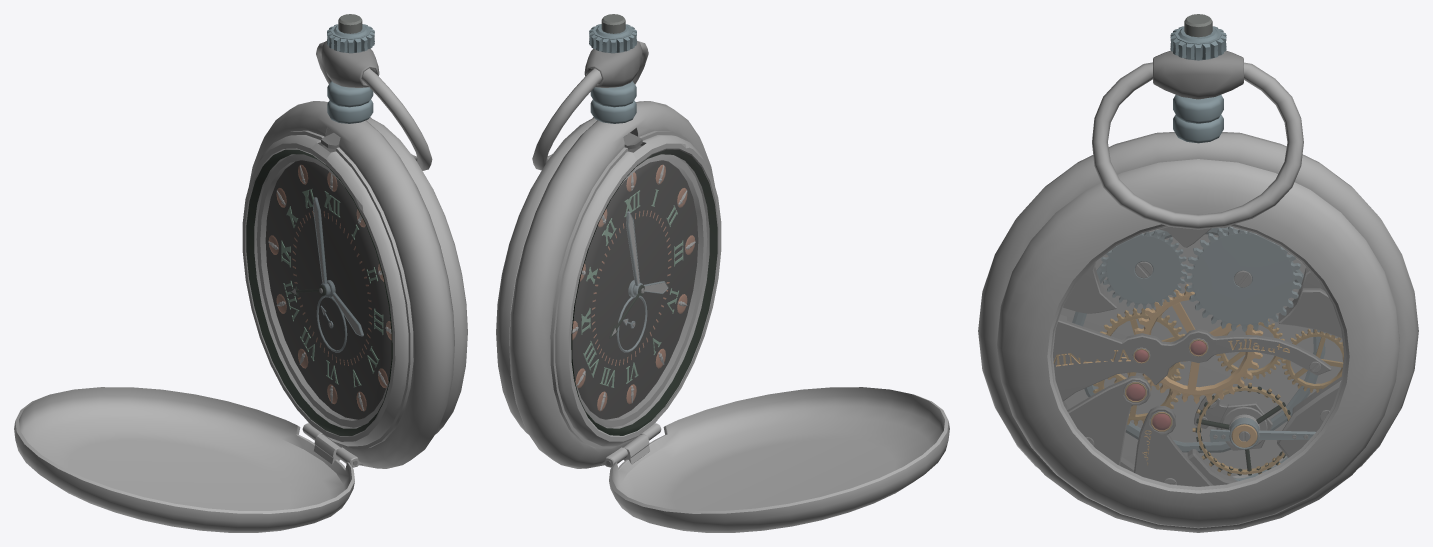
The model's file is Watch15042020.fbx.
The picture shows the model from 3 angles, left to right: view 1: azimuth 30°, elevation 25°; view 2: azimuth 150°, elevation 25°; view 3: azimuth 270°, elevation 25°; orthographic projection. The views are drawn at different scales.
Visible parts, largest first — view 1: polySurface33, pCylinder166, polySurface36, polySurface29, pCylinder55, pTorus4, pCube5, polySurface13, R14, pCylinder22, pCylinder6, pCube148 (+1 smaller); view 2: polySurface33, pCylinder166, polySurface36, polySurface29, pCylinder55, pTorus4, pCube5, polySurface13, R14, pCylinder22, pCylinder6, pCube148 (+1 smaller); view 3: polySurface30, polySurface29, polySurface33, pCylinder170, pCube128, pTorus4, pCylinder83, polySurface35, pCube5, pCube132, pCylinder180, pCylinder179 (+10 smaller).
Boxes of the visible parts, x1=… form: polySurface33: x1=242, y1=101, x2=454, y2=468; pCylinder166: x1=14, y1=387, x2=354, y2=532; polySurface36: x1=245, y1=149, x2=392, y2=435; polySurface29: x1=366, y1=117, x2=467, y2=434; pCylinder55: x1=256, y1=154, x2=389, y2=427; pTorus4: x1=316, y1=42, x2=432, y2=170; pCube5: x1=321, y1=41, x2=379, y2=87; polySurface13: x1=268, y1=165, x2=391, y2=411; R14: x1=281, y1=189, x2=383, y2=387; pCylinder22: x1=327, y1=81, x2=373, y2=107; pCylinder6: x1=327, y1=99, x2=373, y2=123; pCube148: x1=327, y1=24, x2=374, y2=52; polySurface33: x1=509, y1=101, x2=721, y2=468; pCylinder166: x1=609, y1=387, x2=949, y2=532; polySurface36: x1=571, y1=149, x2=718, y2=435; polySurface29: x1=496, y1=117, x2=597, y2=434; pCylinder55: x1=574, y1=154, x2=707, y2=427; pTorus4: x1=532, y1=41, x2=648, y2=170; pCube5: x1=584, y1=41, x2=642, y2=87; polySurface13: x1=572, y1=165, x2=695, y2=411; R14: x1=581, y1=189, x2=683, y2=387; pCylinder22: x1=590, y1=81, x2=636, y2=107; pCylinder6: x1=590, y1=99, x2=636, y2=123; pCube148: x1=589, y1=24, x2=636, y2=52; polySurface30: x1=1050, y1=225, x2=1346, y2=489; polySurface29: x1=997, y1=159, x2=1399, y2=528; polySurface33: x1=978, y1=132, x2=1418, y2=532; pCylinder170: x1=1053, y1=315, x2=1331, y2=486; pCube128: x1=1184, y1=226, x2=1302, y2=331; pTorus4: x1=1092, y1=62, x2=1303, y2=229; pCylinder83: x1=1100, y1=229, x2=1187, y2=309; polySurface35: x1=1277, y1=267, x2=1342, y2=457; pCube5: x1=1153, y1=50, x2=1243, y2=99; pCube132: x1=1134, y1=284, x2=1263, y2=403; pCylinder180: x1=1072, y1=227, x2=1325, y2=452; pCylinder179: x1=1063, y1=226, x2=1211, y2=313.
Size of the model in its own units: 9.4 by 10.81 by 8.3.
